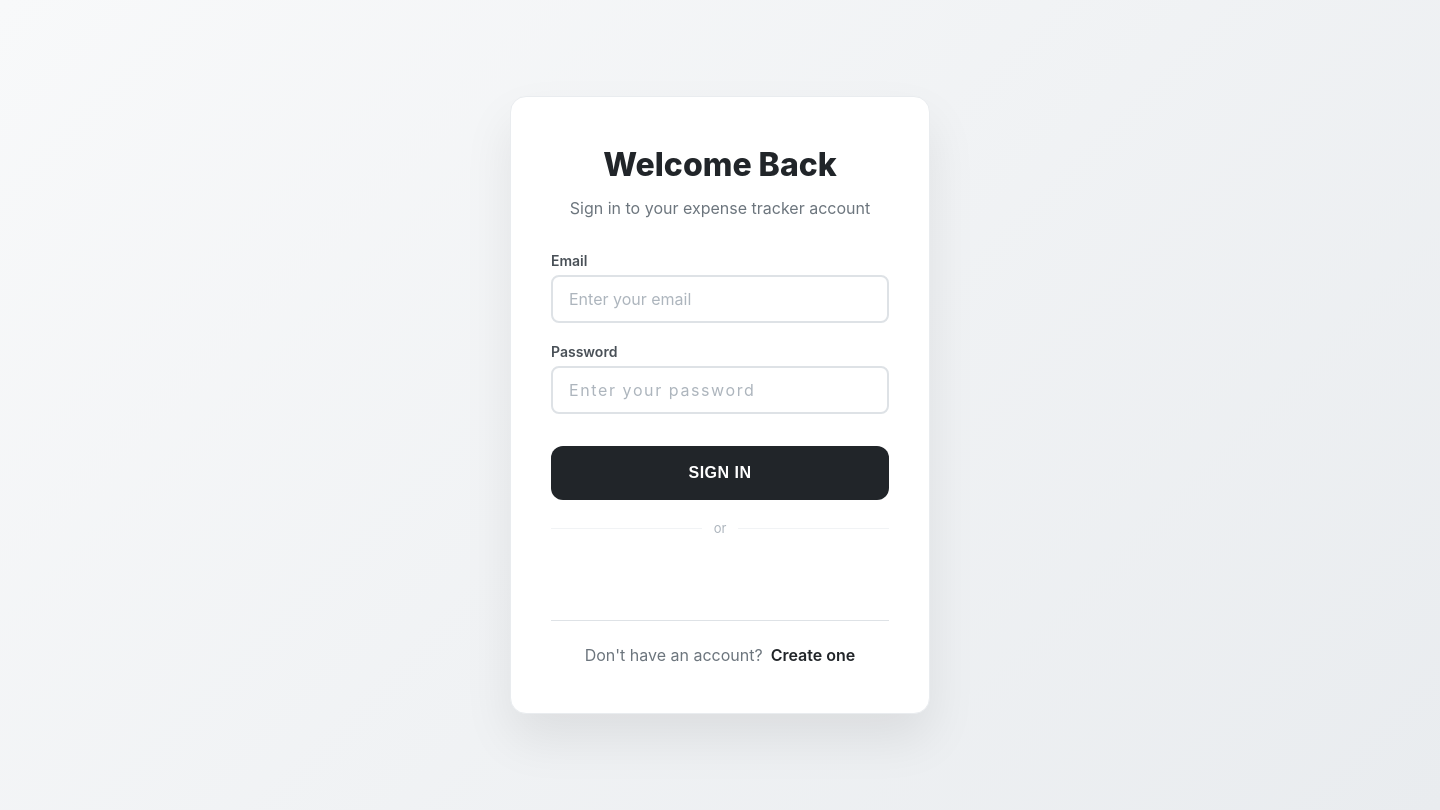
Test: Login › should display error message on login failure
The image size is (1440, 810).
Type "test@example.com" into the field labelled "Email" at (720, 299), box [551, 275, 889, 323]
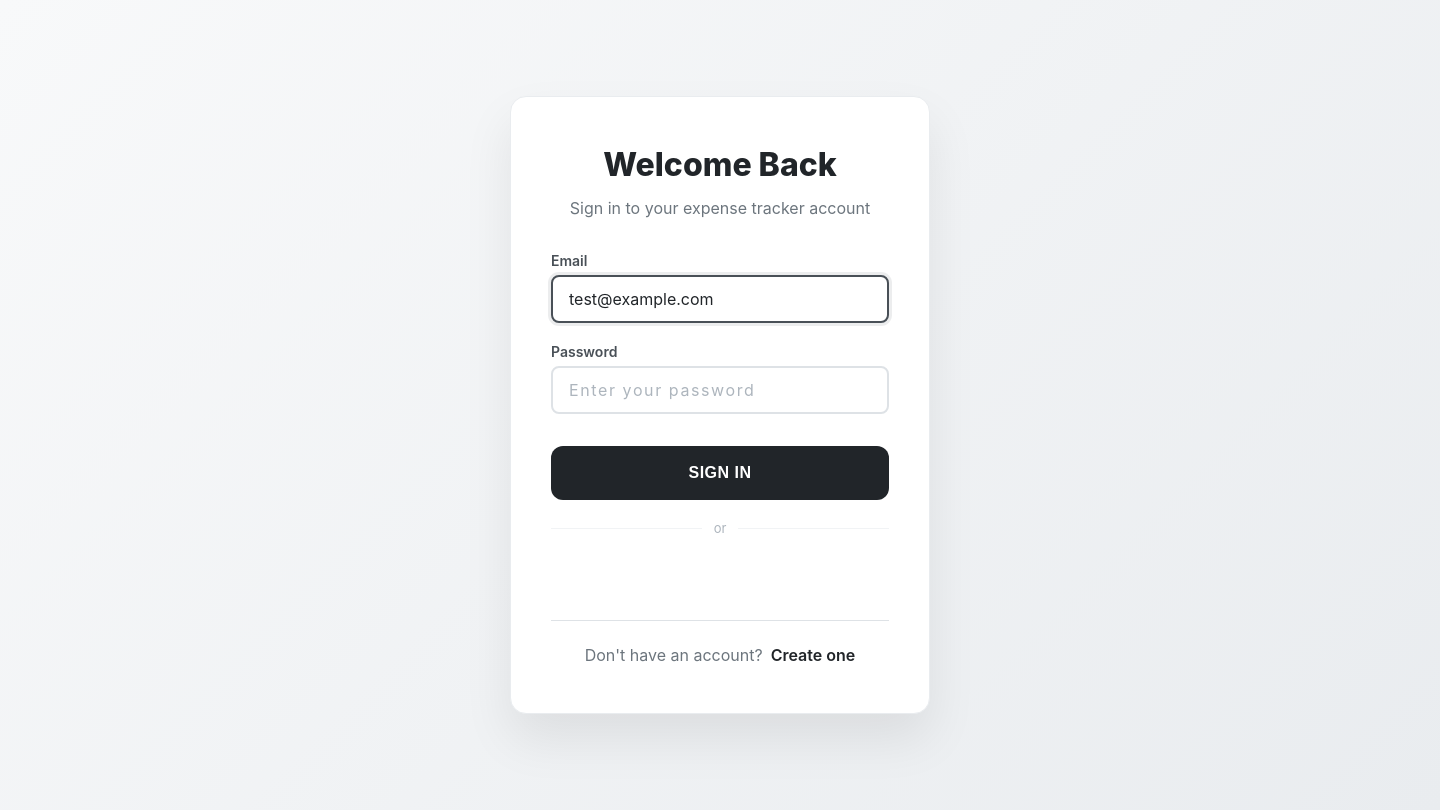
Type "wrongpassword" into the password field labelled "Password" at (720, 390), box [551, 366, 889, 414]
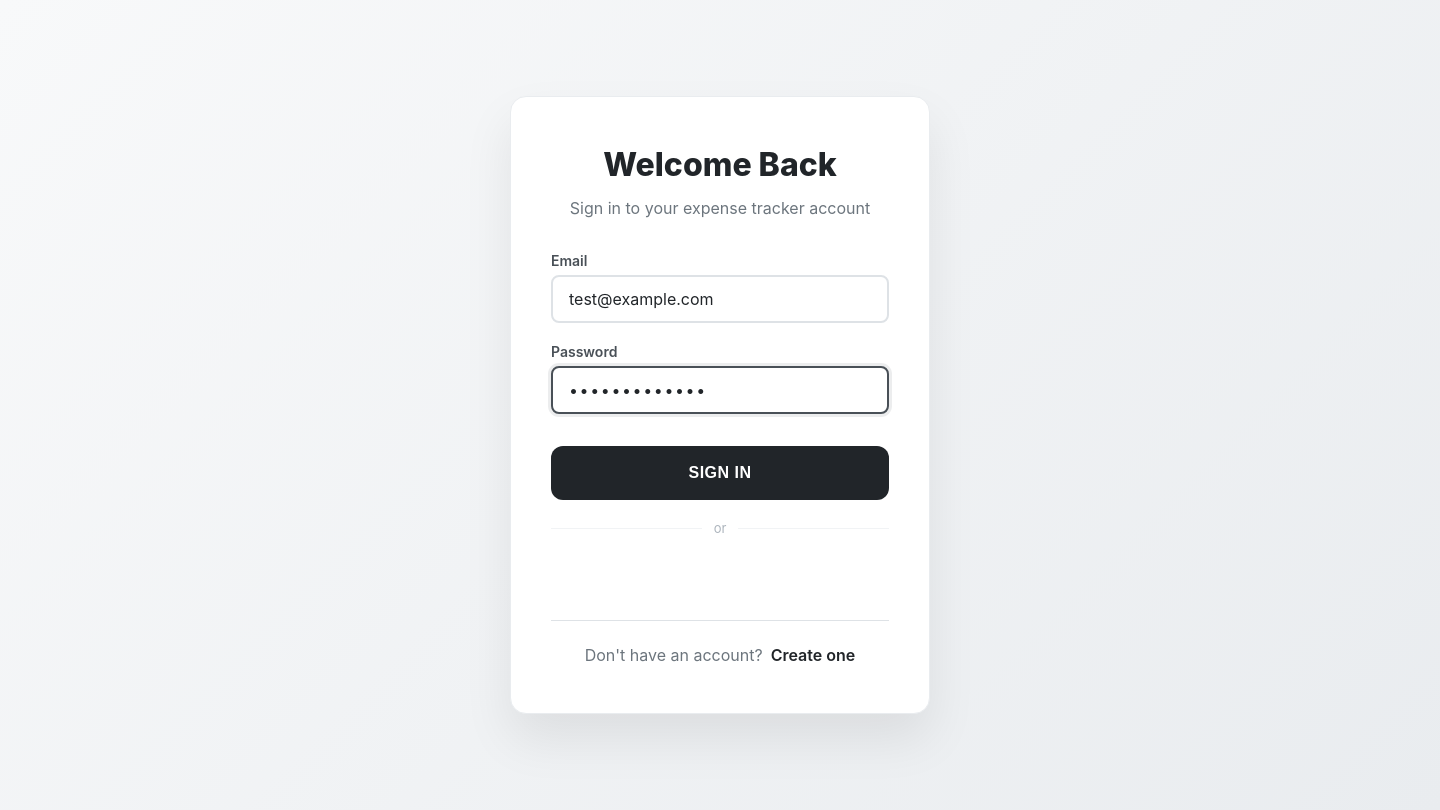
Click the button "Sign In" at (720, 473), box [551, 446, 889, 500]
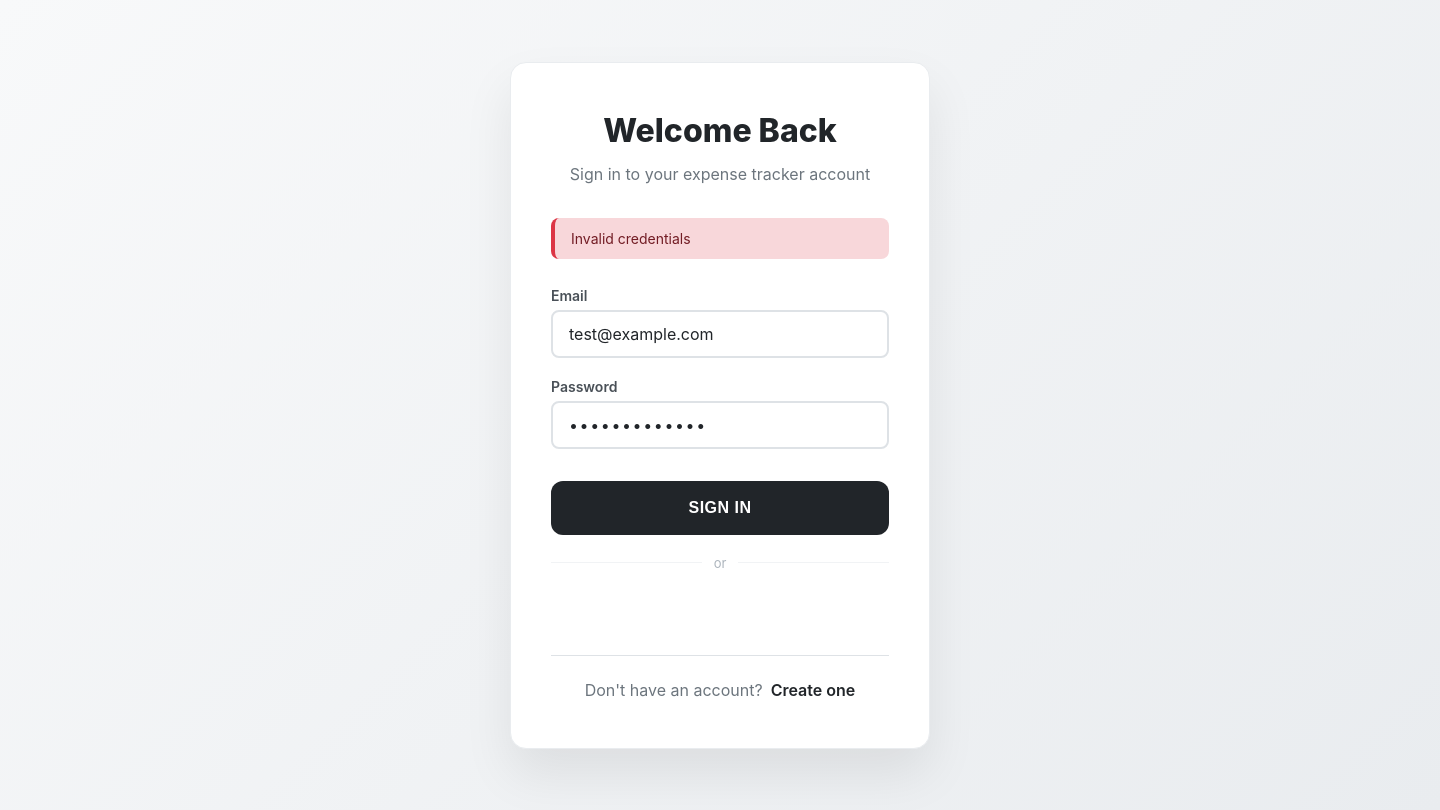
Now the text "Invalid credentials" is shown, box [551, 218, 889, 258]
